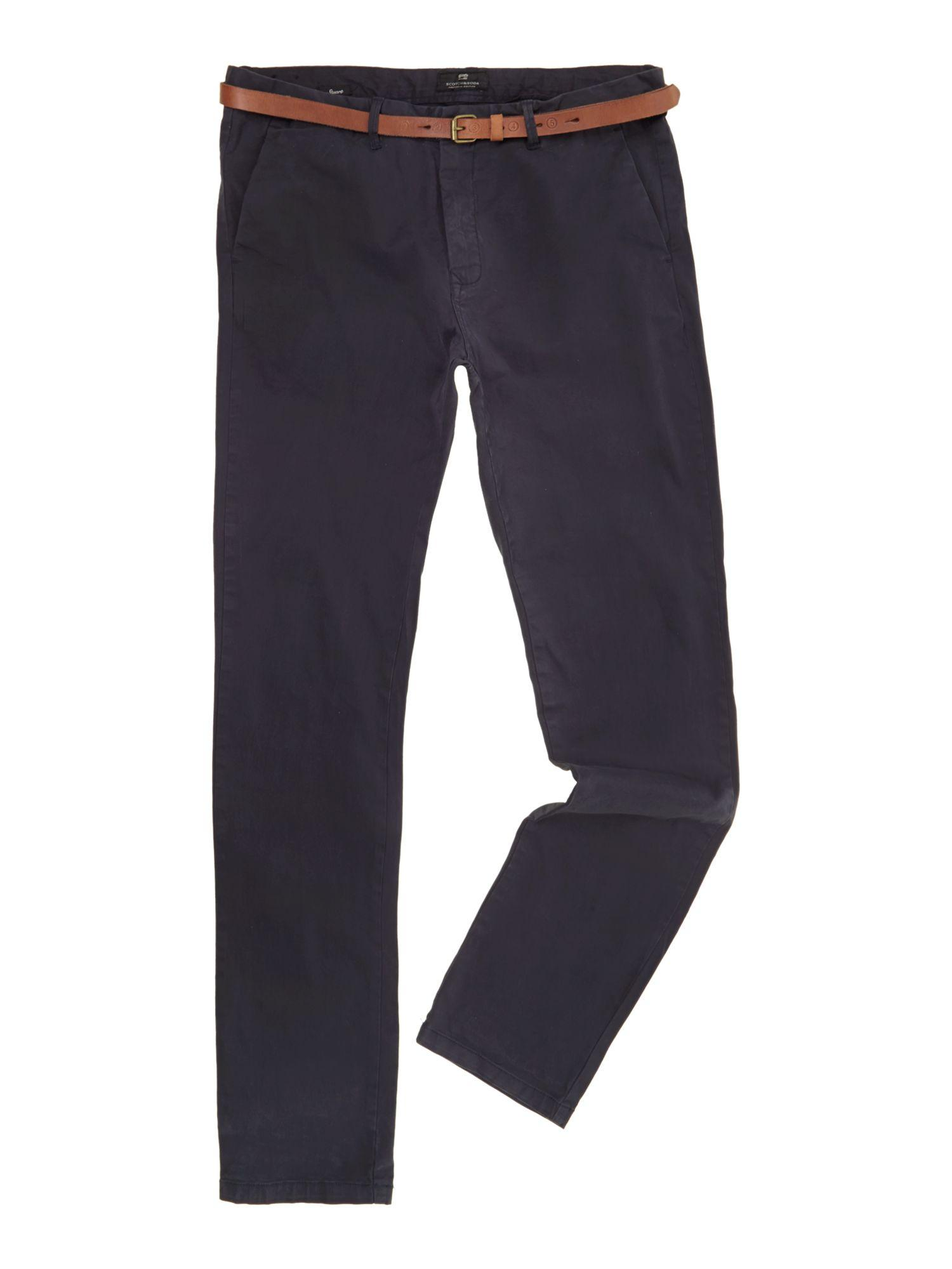jeans: (195, 49, 750, 1219)
